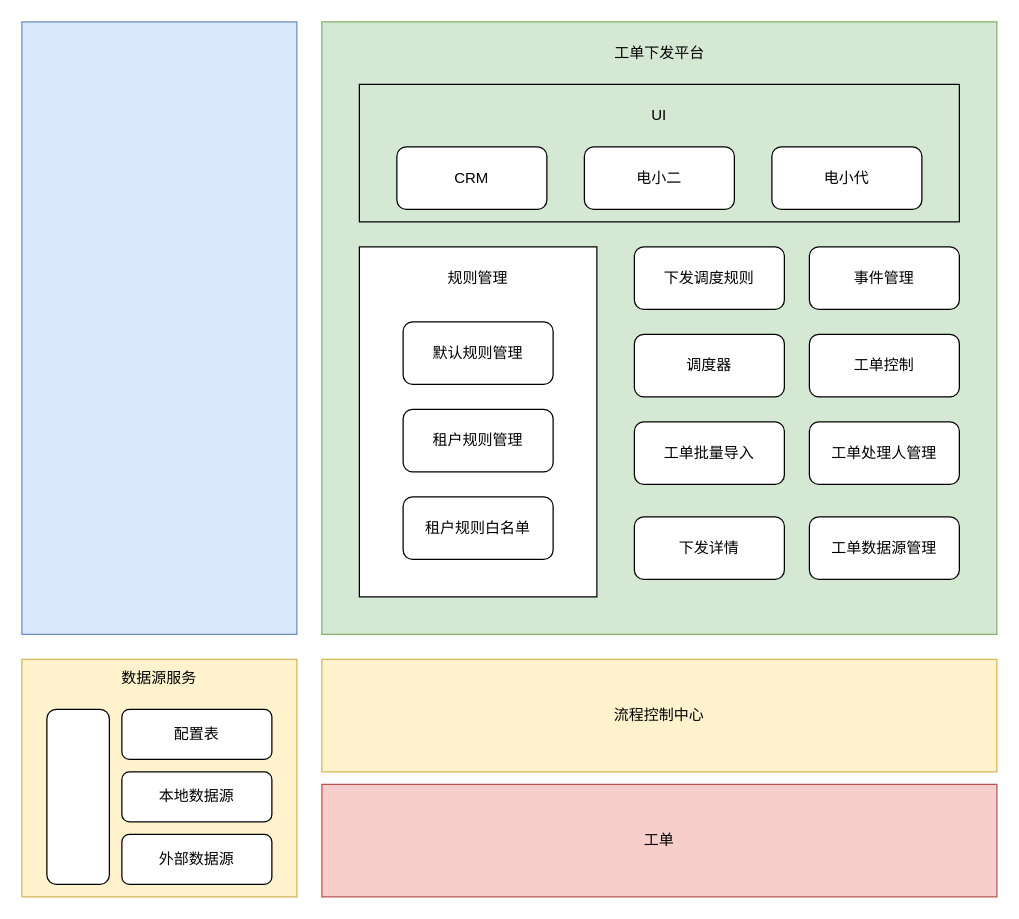
Some shapes in this 1019 by 919 pixel diagram are drawn without their labels. The shapes that lost their labels are listed below. From the top down, each one's centre as x and y in pixels, then its label:
point 159,327: 规则中心
point 77,796: 数 据 定 义
